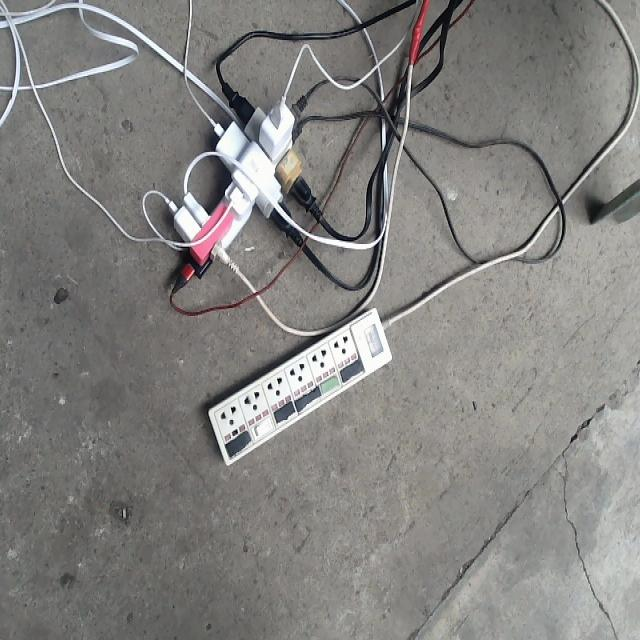-: (167, 87, 314, 297)
